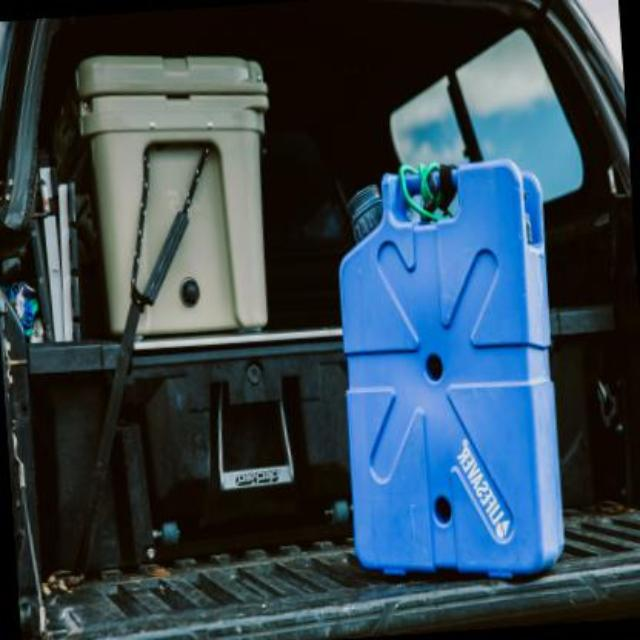chemical_plastic_gallon: (326, 139, 572, 597)
